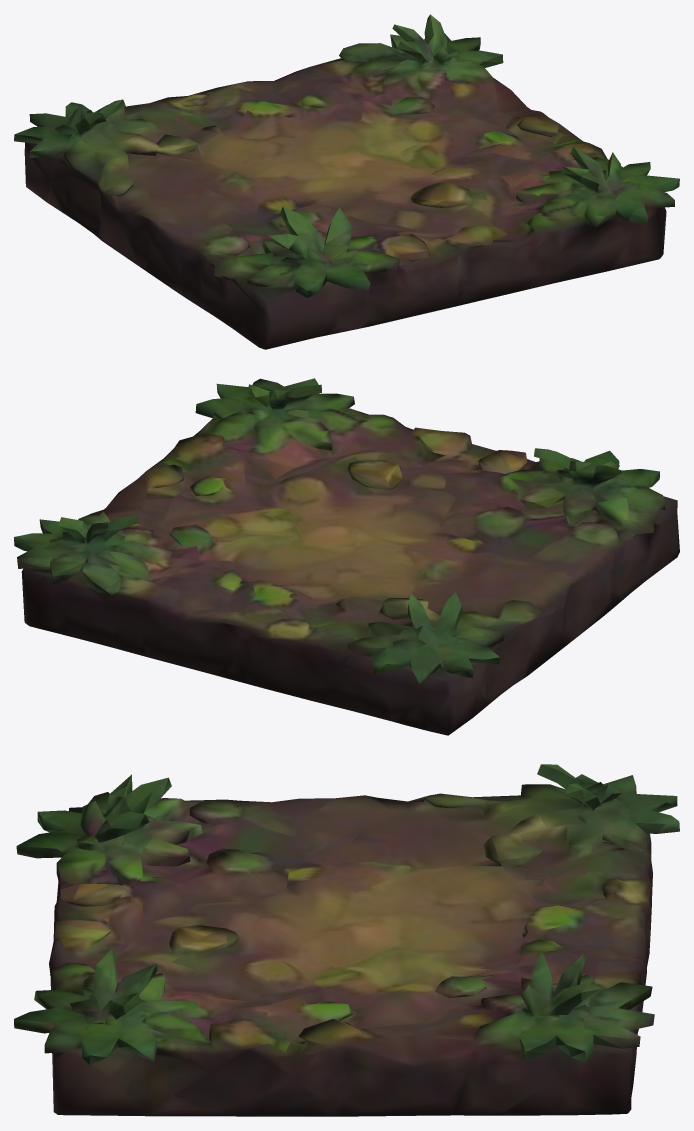
File: f11_chao_folhas.glb
3 views of the same model, one above another, from view 1: azimuth 30°, elevation 25°; view 2: azimuth 150°, elevation 25°; view 3: azimuth 270°, elevation 25° (orthographic). The views are drawn at different scales.
Visible parts, largest first — view 1: f11_chao_folhas; view 2: f11_chao_folhas; view 3: f11_chao_folhas.
Part boxes in pixels (left/top/right/bottom): f11_chao_folhas: left=14, top=14, right=679, bottom=349; f11_chao_folhas: left=14, top=378, right=679, bottom=735; f11_chao_folhas: left=14, top=764, right=679, bottom=1116.
Size of the model in its own units: 1.01 by 0.2175 by 1.
Materials: 1 (1 with a texture image).
